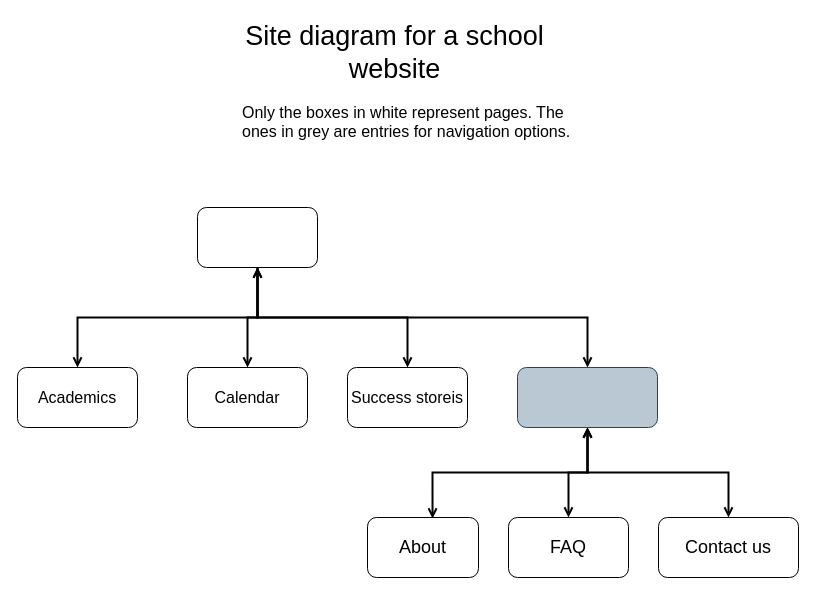
Some shapes in this 816 by 595 pixel diagram are drawn without their labels. The centre of each missing label's shape, as x and y in pixels:
"Get to know us" belongs at (587,397).
"Home page" belongs at (257,237).
